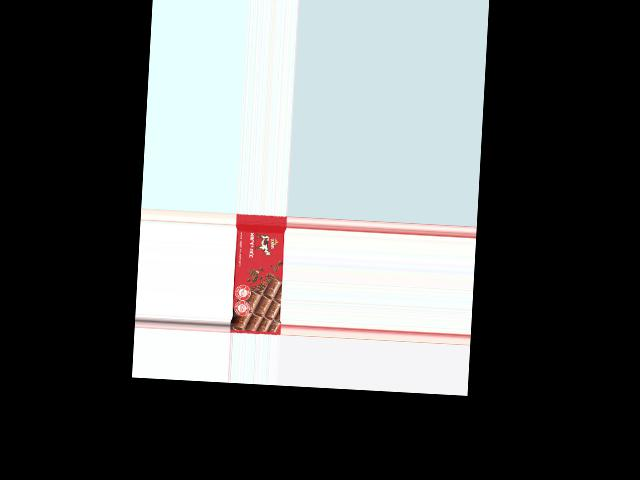chocolate: (229, 215, 286, 335)
